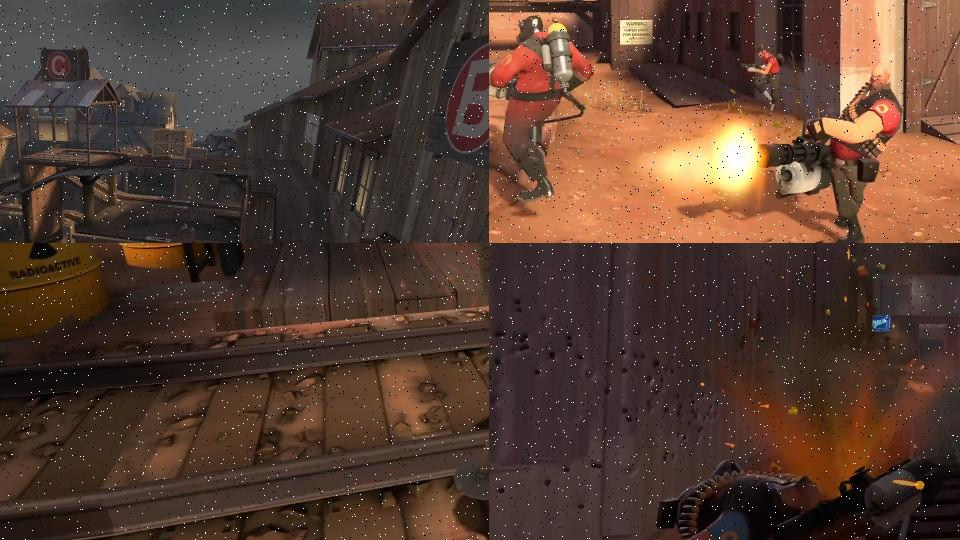Enemy: (549, 442, 830, 540), (749, 65, 903, 243), (489, 14, 595, 202), (738, 43, 786, 117)
